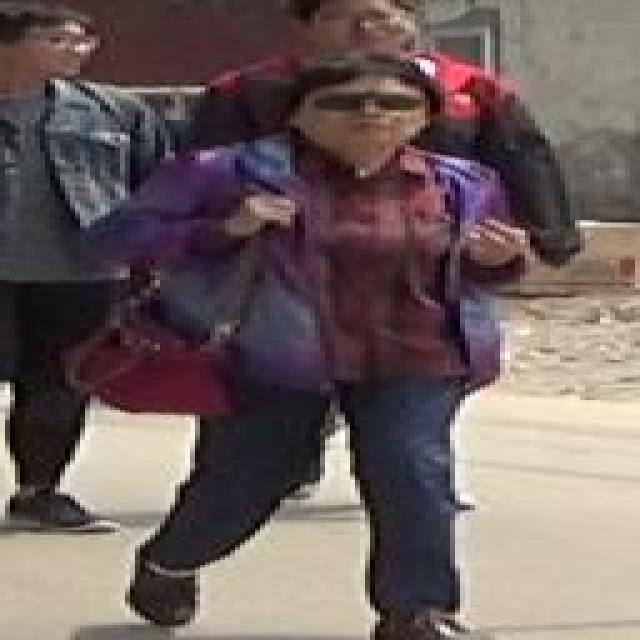adult: (112, 55, 524, 640), (251, 0, 598, 300), (0, 5, 141, 526)
